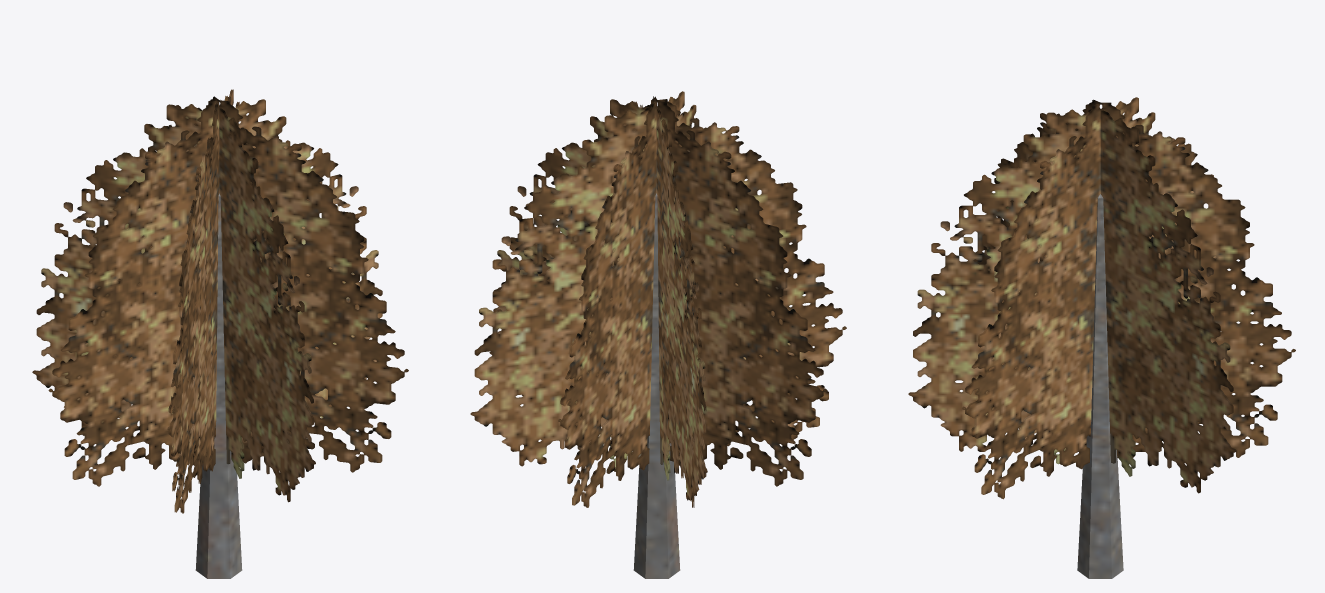
File: tree29.glb
3 views of the same model, side by side, from view 1: azimuth 30°, elevation 25°; view 2: azimuth 150°, elevation 25°; view 3: azimuth 270°, elevation 25° (orthographic).
Visible parts, largest first — view 1: tree29; view 2: tree29; view 3: tree29.
Part boxes in pixels (x1=…): tree29: x1=32, y1=89, x2=408, y2=578; tree29: x1=470, y1=91, x2=846, y2=578; tree29: x1=908, y1=97, x2=1295, y2=578.
Size of the model in its own units: 10.2 by 12.5 by 10.2.
1 material, 1 textured.
